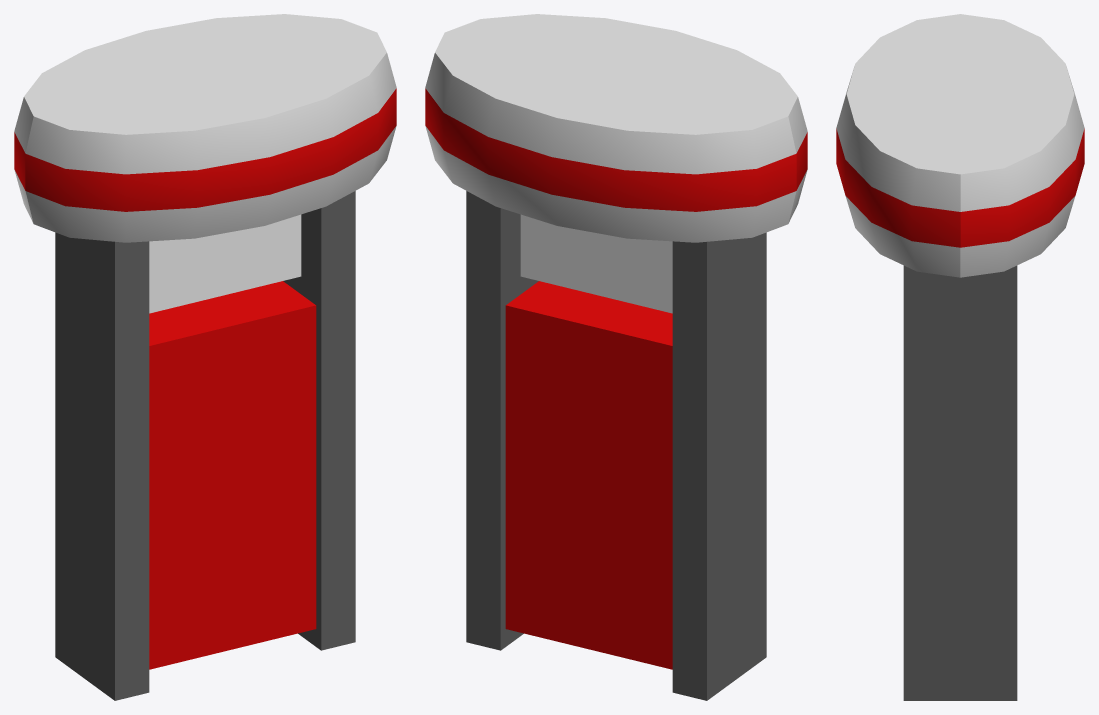
Rendered from posto.fbx_Bomba.fbx.
3 views of the same model, side by side, from view 1: azimuth 30°, elevation 25°; view 2: azimuth 150°, elevation 25°; view 3: azimuth 270°, elevation 25° (orthographic). The views are drawn at different scales.
Parts seen in each view (by area): view 1: Cylinder.006; view 2: Cylinder.006; view 3: Cylinder.006.
Boxes of the visible parts, left/top/right/bottom form: Cylinder.006: left=14, top=14, right=396, bottom=700; Cylinder.006: left=425, top=14, right=807, bottom=700; Cylinder.006: left=836, top=14, right=1084, bottom=700.
Size of the model in its own units: 210 by 320 by 131.
